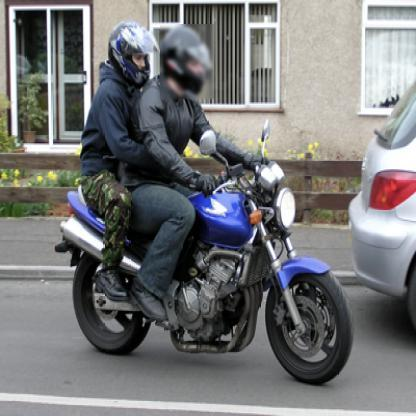With Helmet: (160, 24, 215, 100), (106, 19, 158, 86)
